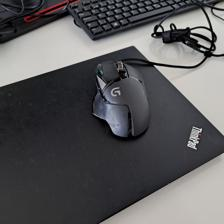mouse: (90, 58, 151, 139)
